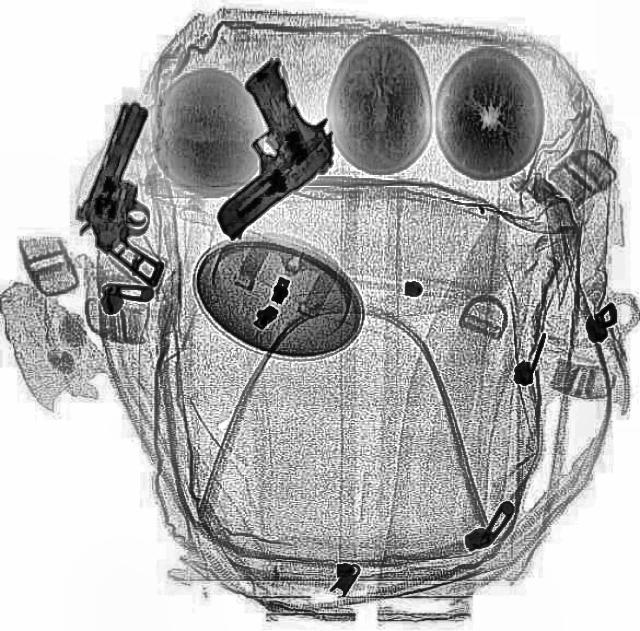Gun: (146, 54, 358, 241), (56, 97, 220, 287)
